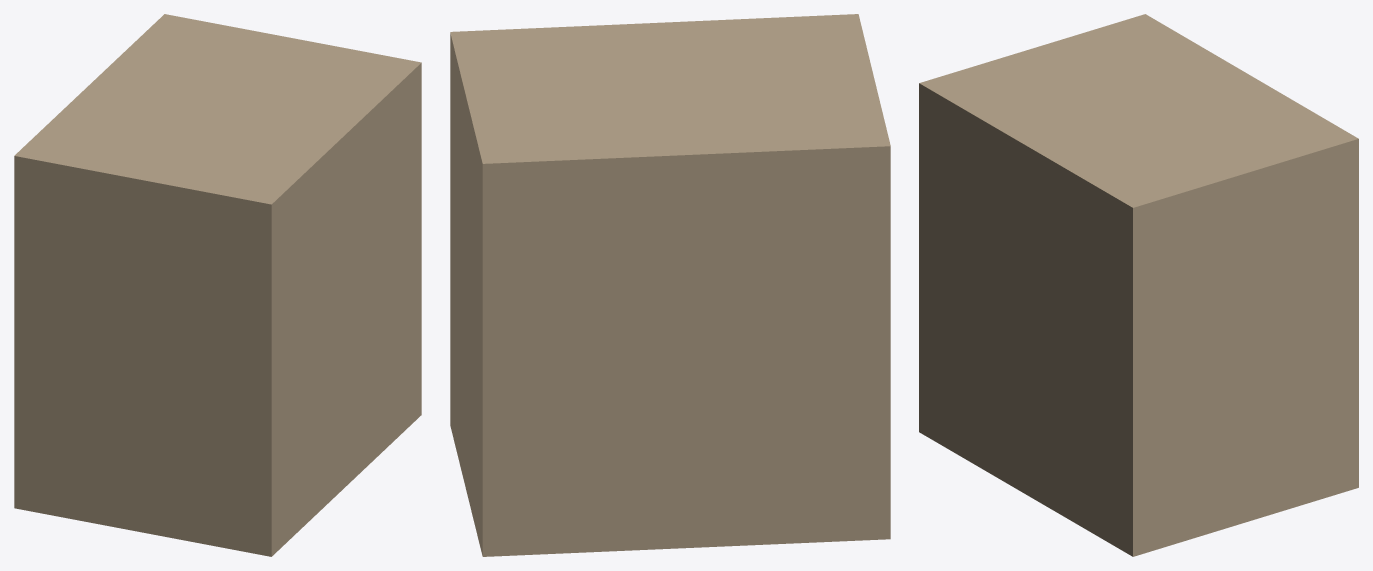
File: bld_106297710.dae
3 views of the same model, side by side, from view 1: azimuth 30°, elevation 25°; view 2: azimuth 150°, elevation 25°; view 3: azimuth 270°, elevation 25° (orthographic). The views are drawn at different scales.
Parts seen in each view (by area): view 1: bld_106297710; view 2: bld_106297710; view 3: bld_106297710.
Part boxes in pixels (<box>): bld_106297710: <box>14,14,421,556</box>; bld_106297710: <box>450,14,890,556</box>; bld_106297710: <box>919,14,1358,556</box>.
Bounding box in the file's own units: 9.53 × 9.13 × 8.
